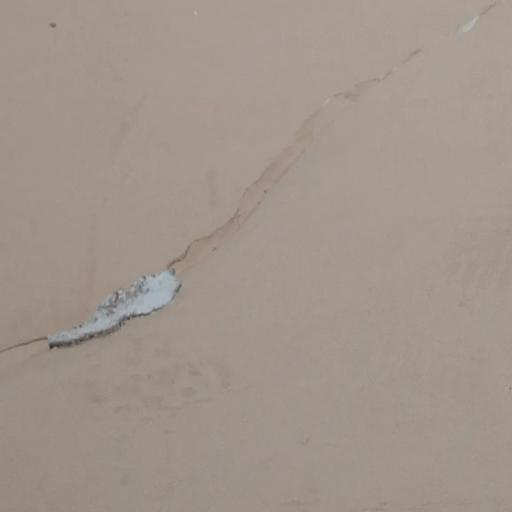peeling: (199, 50, 407, 283), (2, 223, 205, 379), (443, 0, 512, 43)
